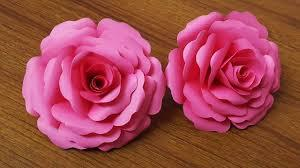Rose: (18, 19, 167, 148), (165, 9, 284, 140)
